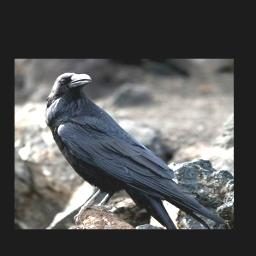Crow: (43, 71, 230, 229)
